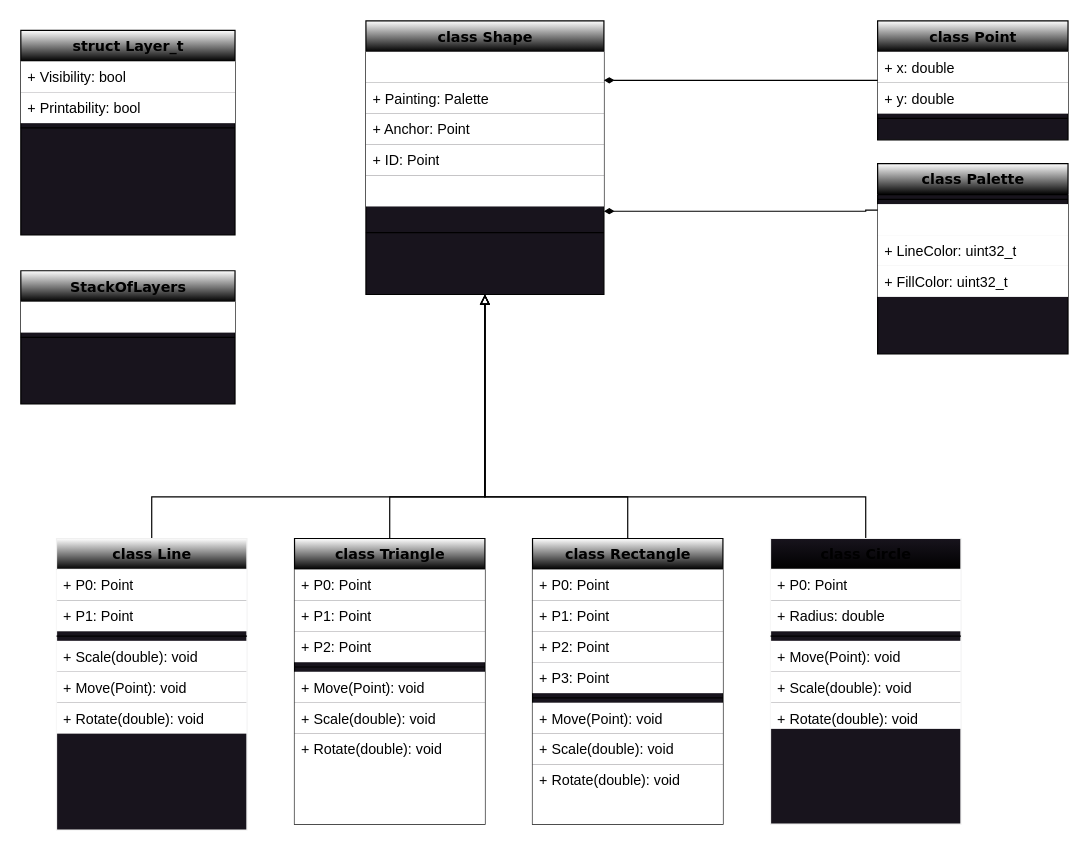
The diagram is 1089 pixels wide and 851 high, and some of its shapes have lost their labels. The centre of each missing label's shape, as x and y in pixels:
"+ BelongsToLayer: uint8_t" belongs at (484,66).
"+ LinePattern: uint8_t" belongs at (972,218).
"+ StackOfLayers[256]: Layer_t" belongs at (127,316).
"+ TotalObiectNumber: uint32_t" belongs at (484,190).
